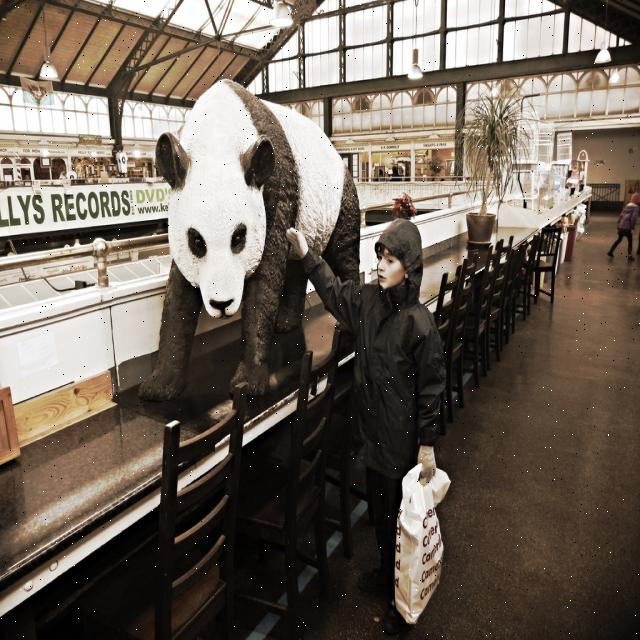panda: (142, 76, 364, 405)
